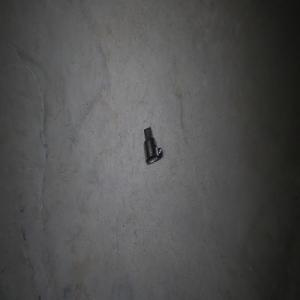MetalPart: (143, 126, 162, 164)
